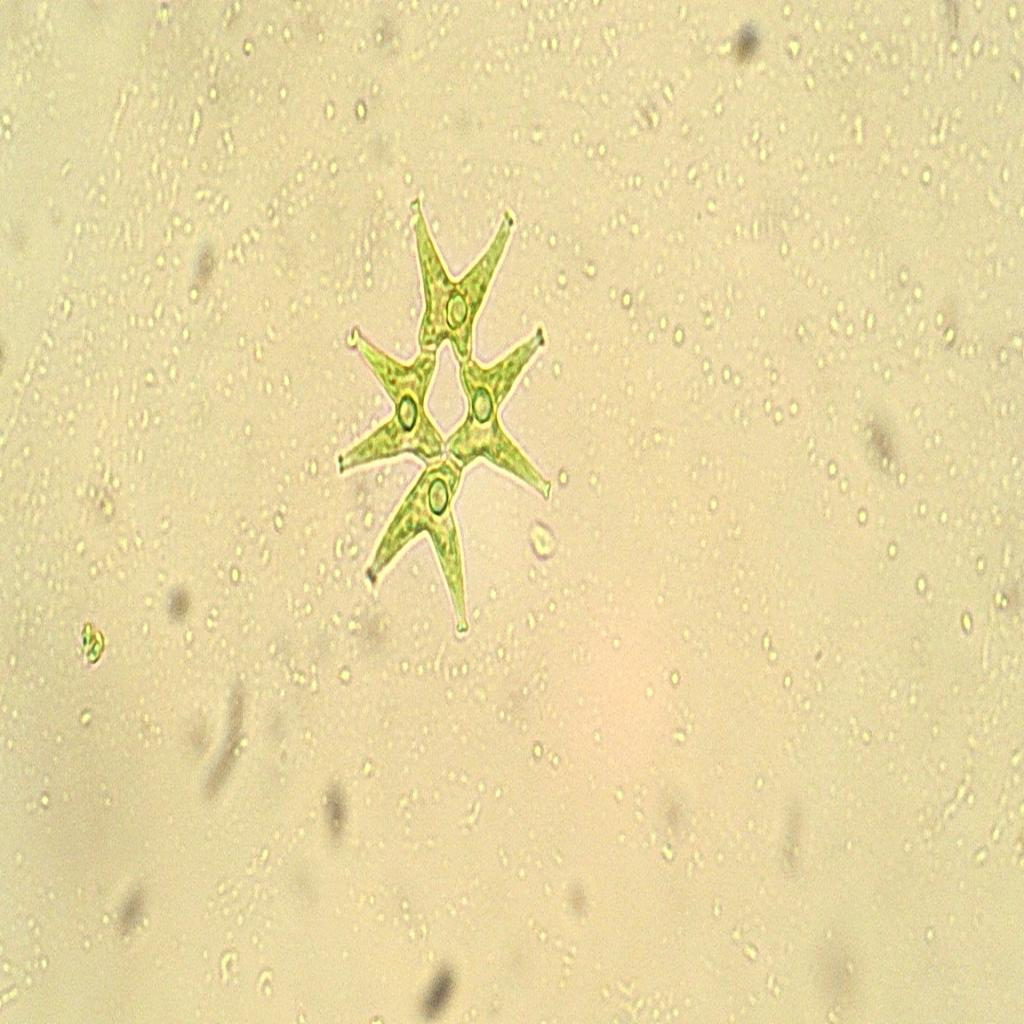Pediastrum_75FI: (326, 176, 567, 657)
